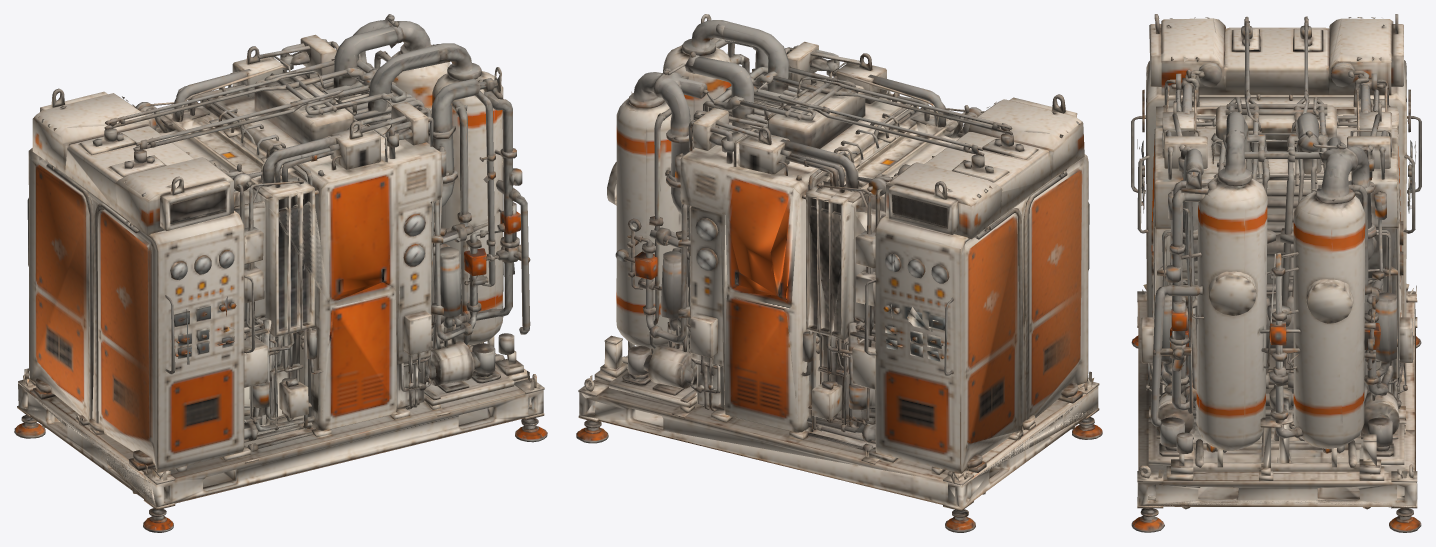
File: LifeSupport_T25.glb
3 renders of one model, left to right at view 1: azimuth 30°, elevation 25°; view 2: azimuth 150°, elevation 25°; view 3: azimuth 270°, elevation 25°, orthographic.
Bounding box in the file's own units: 0.9502 × 0.8384 × 0.5962.
1 material, 1 textured.
